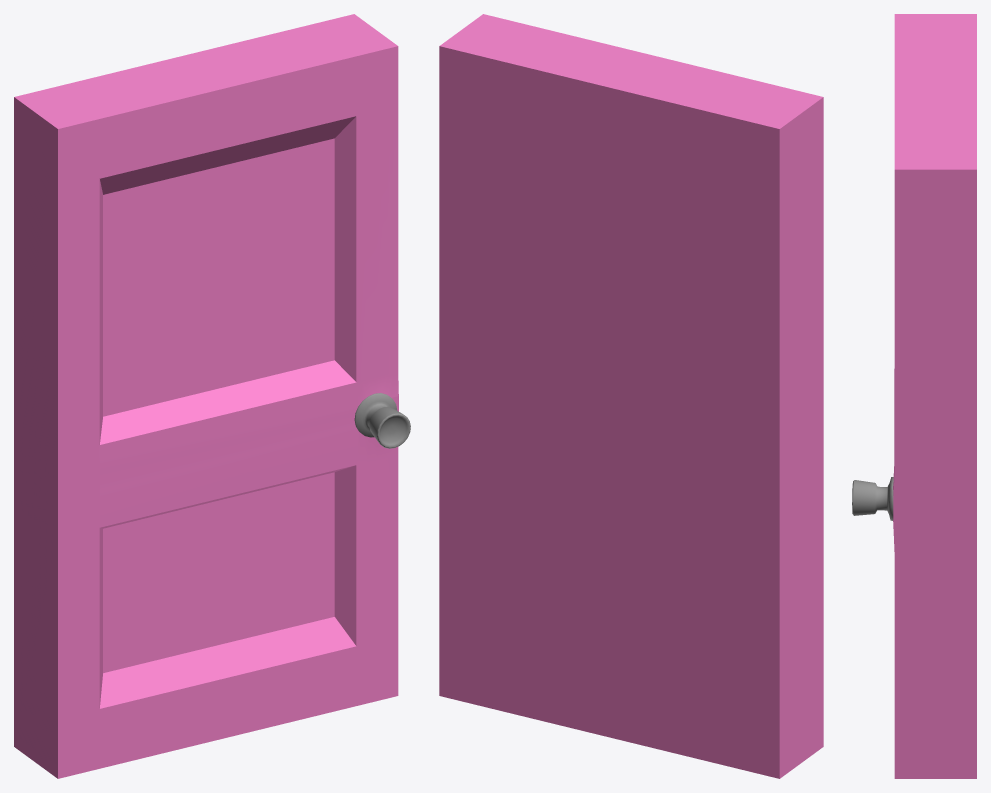
File: door.fbx
3 views of the same model, side by side, from view 1: azimuth 30°, elevation 25°; view 2: azimuth 150°, elevation 25°; view 3: azimuth 270°, elevation 25° (orthographic). The views are drawn at different scales.
Parts seen in each view (by area): view 1: door; view 2: door; view 3: door.
Part boxes in pixels (box(x1,y1,x2,y2)): door: box(14, 14, 410, 778); door: box(439, 14, 823, 778); door: box(852, 14, 976, 778).
Size of the model in its own units: 9.21 by 16.81 by 3.12.
1 material, 1 textured.
